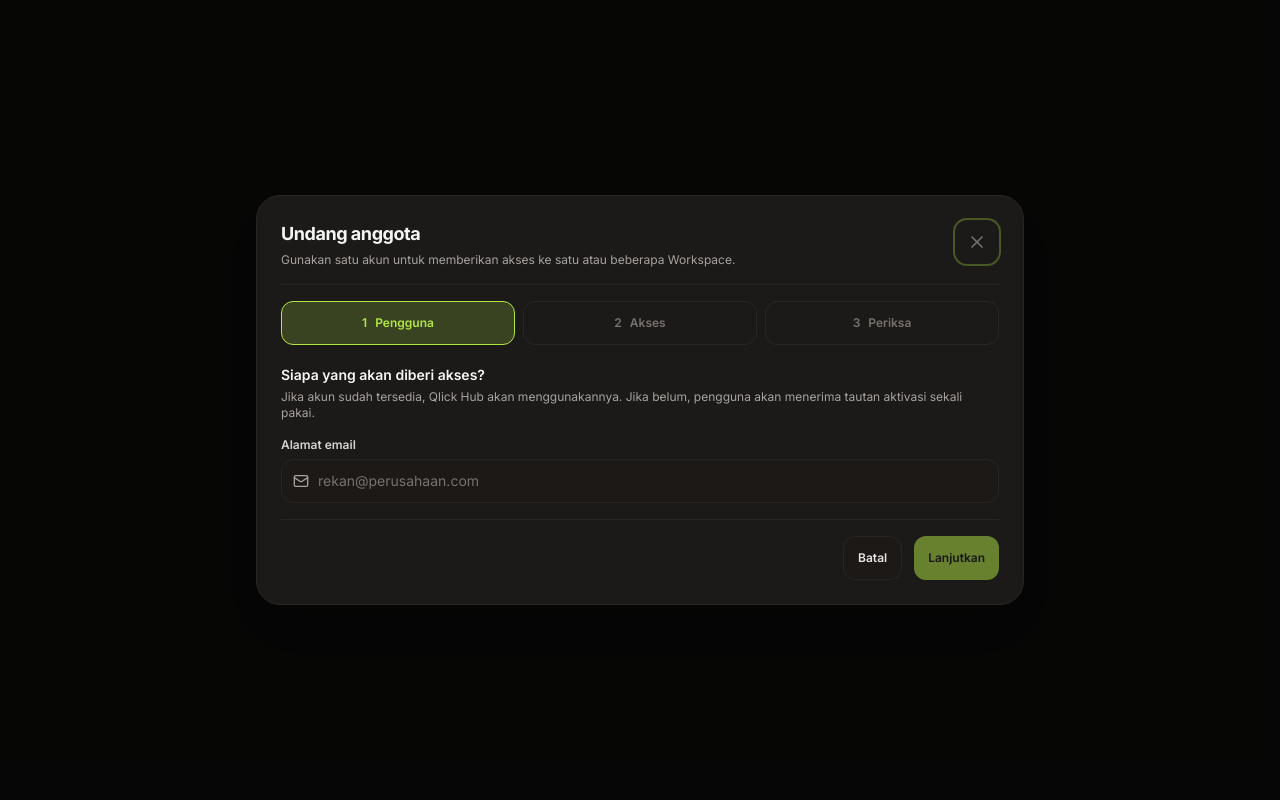
Scenario: InviteMemberModal access wizard › guides a new invitation through identity, access, and review steps
Type "teammate@company.com" into the field labelled "Alamat email".
click(640, 481); type("teammate@company.com")  # box [281,459,999,503]
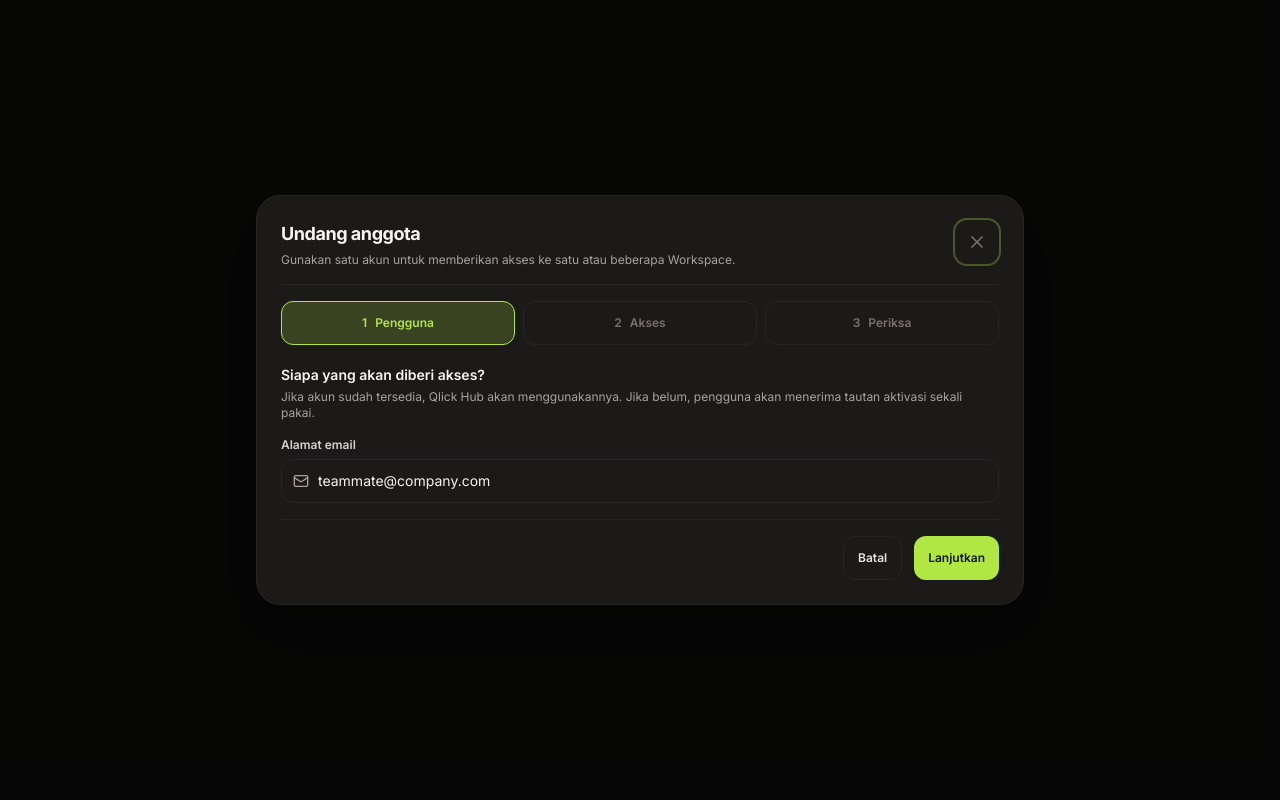
Click the button "Lanjutkan".
click(957, 558)  # box [914,536,999,580]
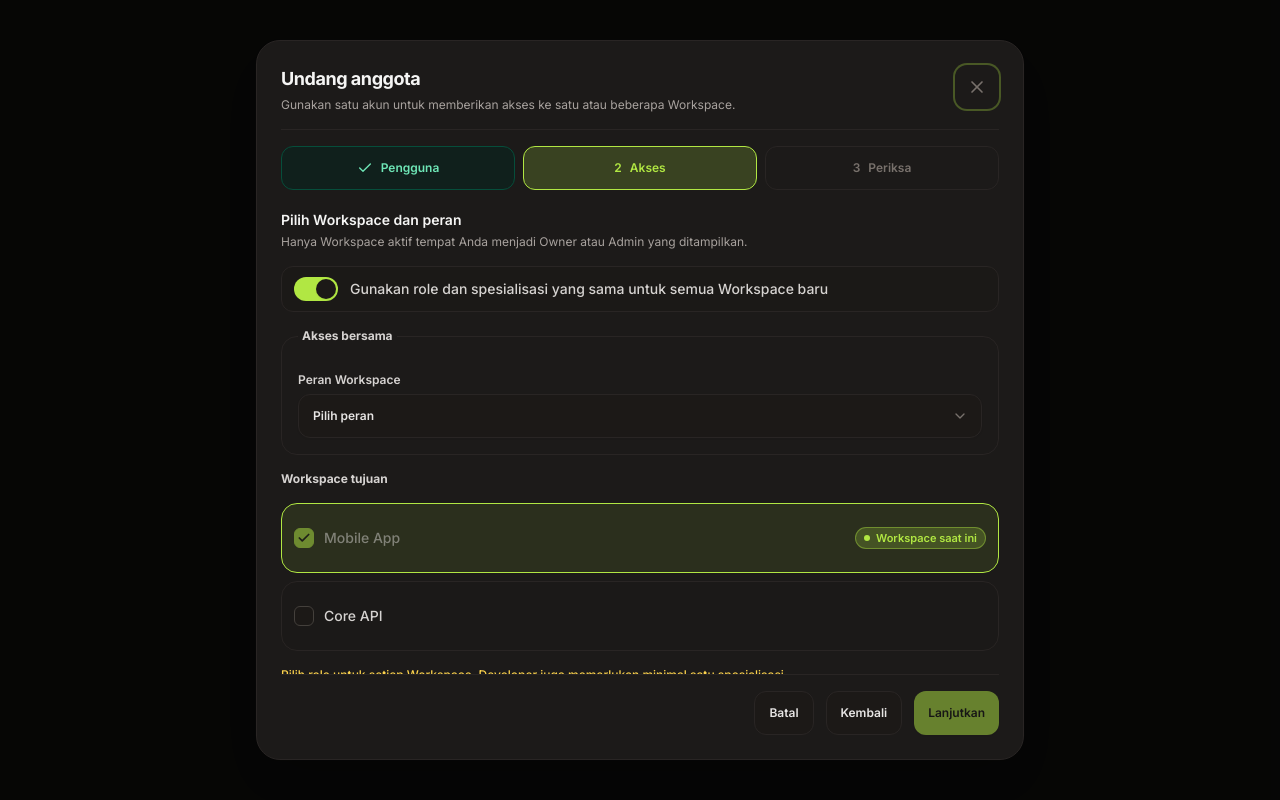
Expected: the heading "Pilih Workspace dan peran" is shown, [281,211,462,228]
Expected: the text "Workspace tujuan" is shown, [281,471,388,487]
Select "Quality Assurance" in the dropdown labelled "Peran Workspace" at [640, 416], box [298,394,982,438]
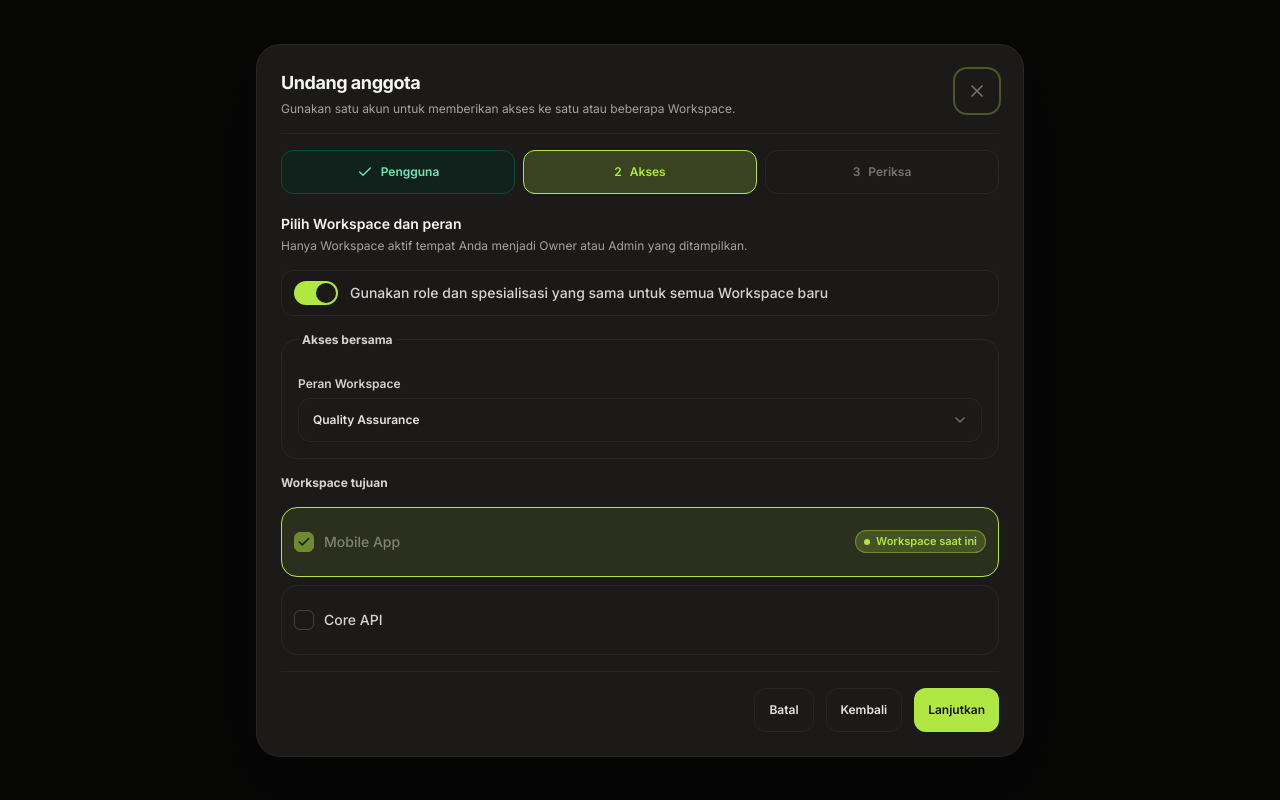
Click the button "Lanjutkan".
click(957, 710)  # box [914,688,999,732]
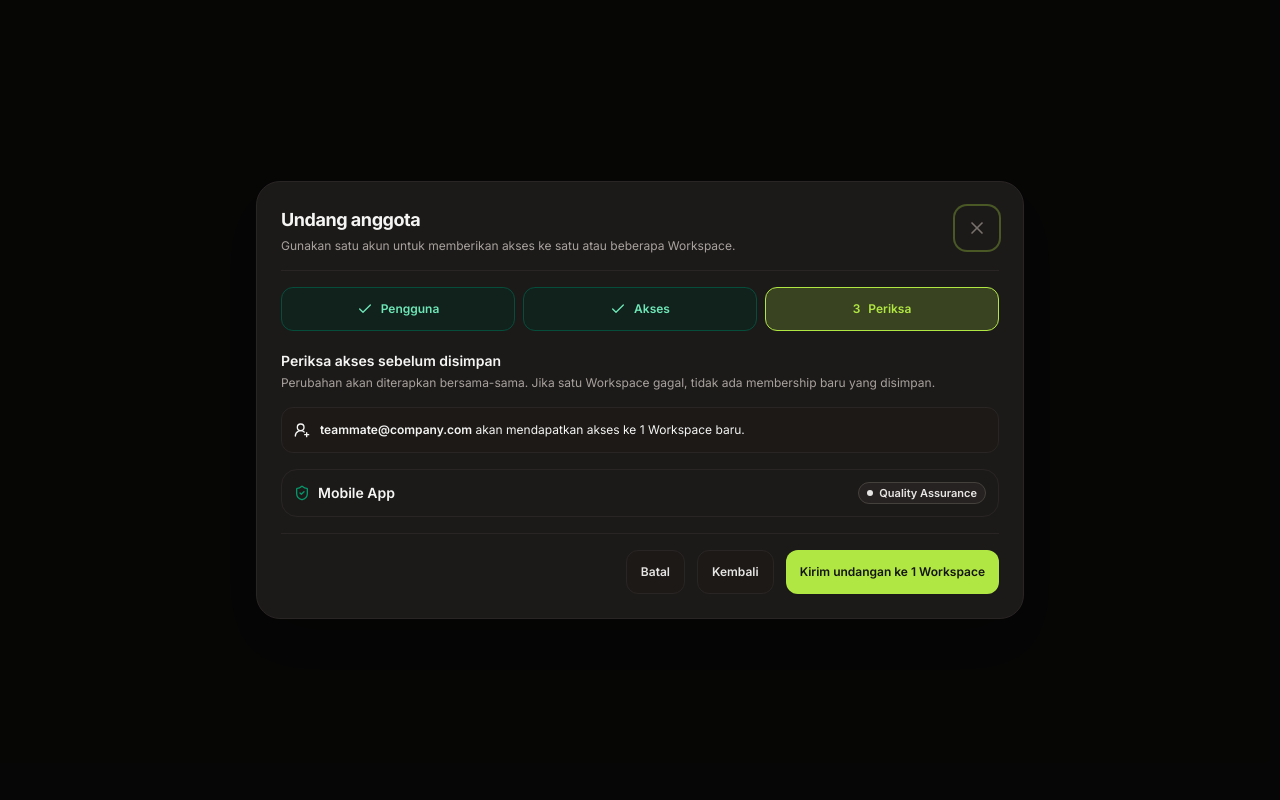
Expected: the heading "Periksa akses sebelum disimpan" is shown, [281,352,501,369]
Expected: the text "teammate@company.com" is shown, [320,422,472,437]
Expected: the text "Quality Assurance" is shown, [879,484,977,501]
